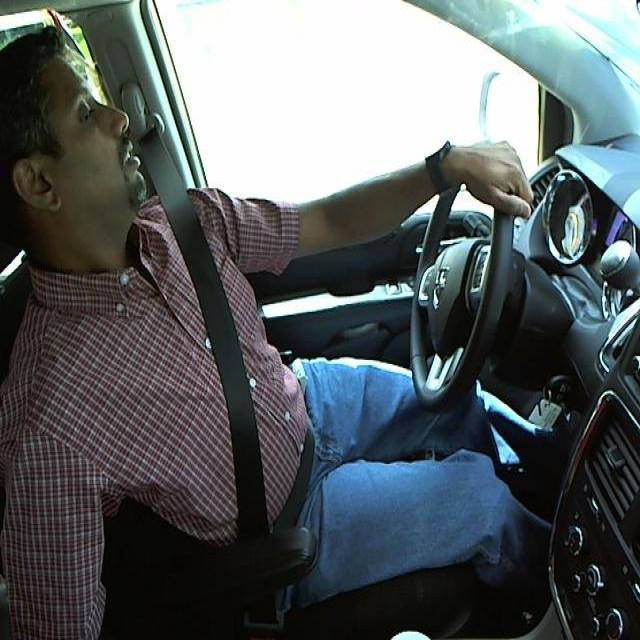seatbelt: (159, 198, 329, 518)
